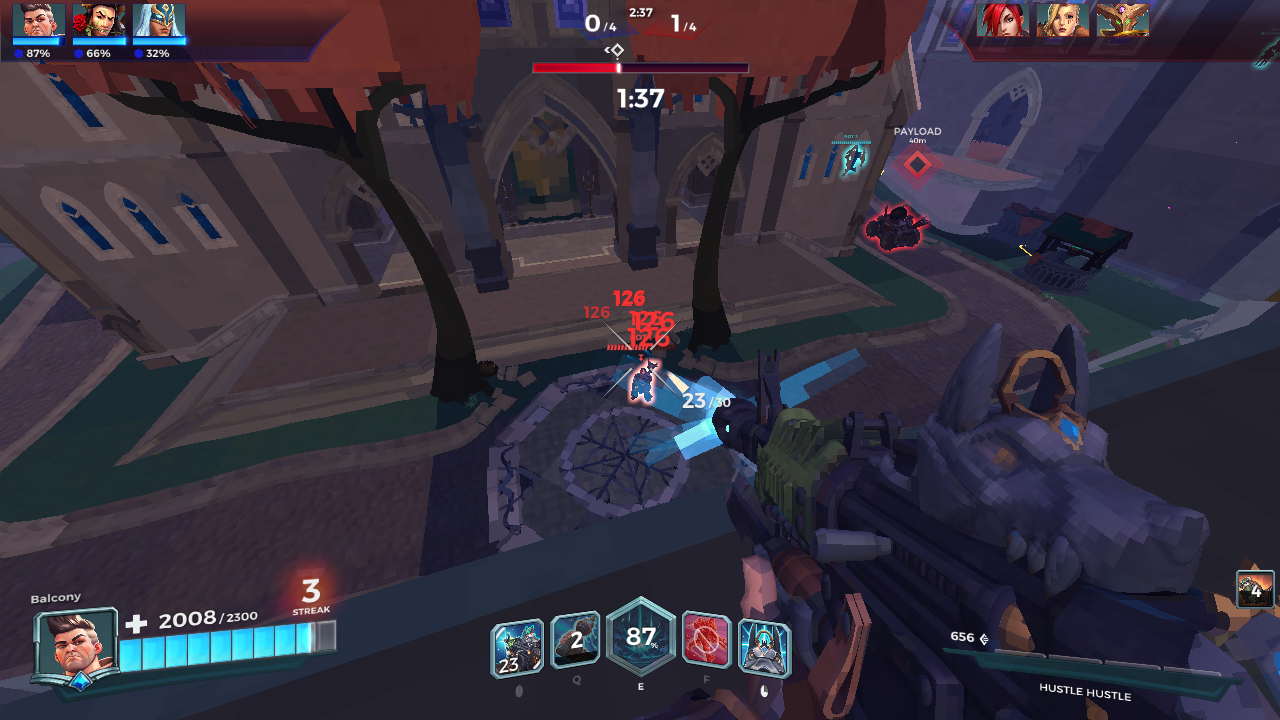model: (626, 355, 656, 403)
